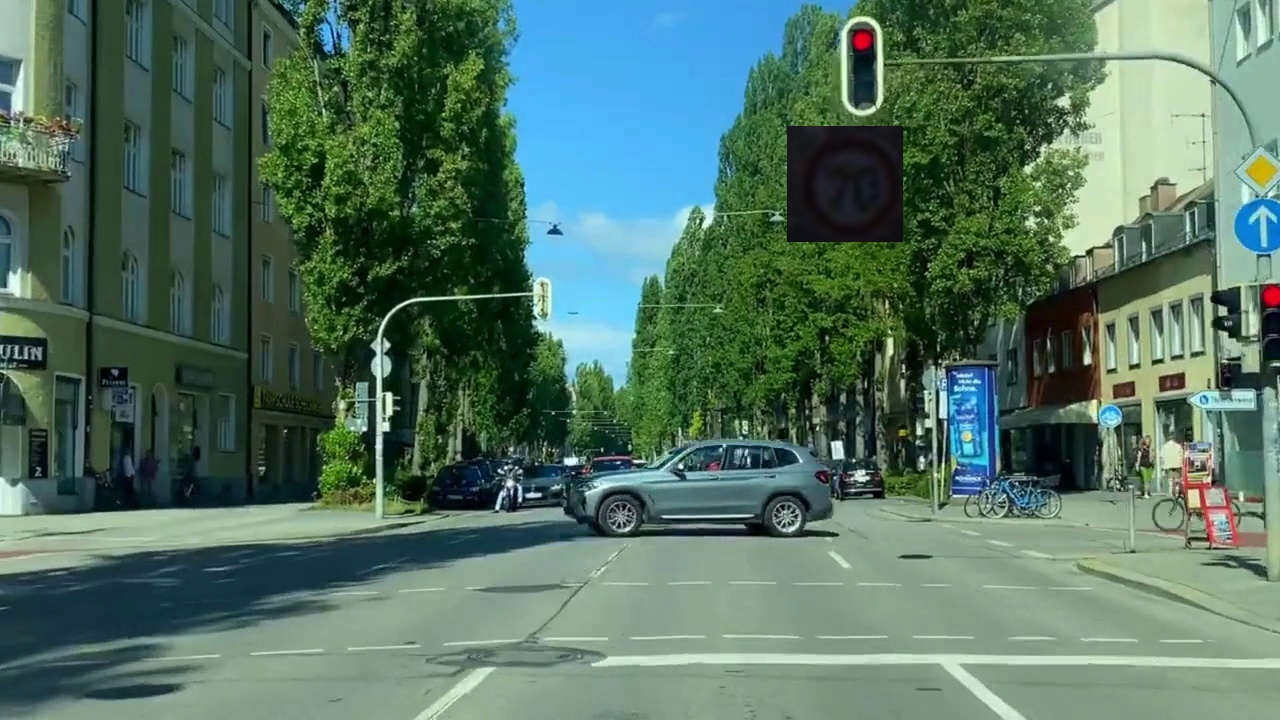Speed 70: (787, 126, 903, 242)
